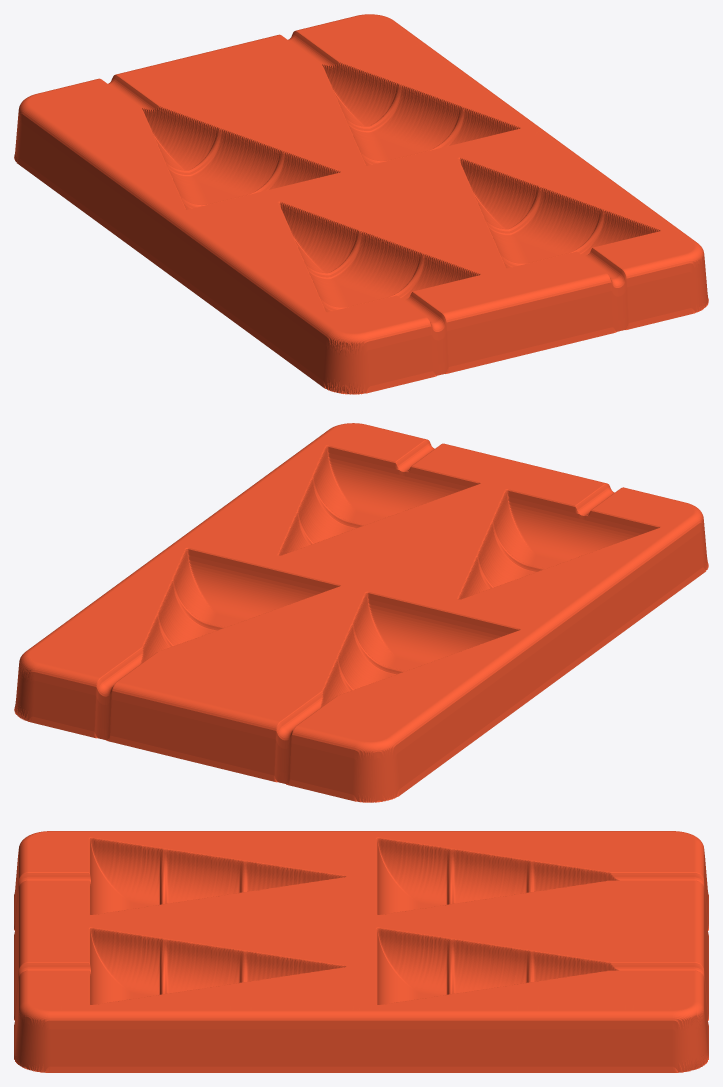
Rendered from mold.glb.
3 views of the same model, one above another, from view 1: azimuth 30°, elevation 25°; view 2: azimuth 150°, elevation 25°; view 3: azimuth 270°, elevation 25° (orthographic). The views are drawn at different scales.
Visible parts, largest first — view 1: geometry_0; view 2: geometry_0; view 3: geometry_0.
Boxes of the visible parts, box(x1,y1,x2,y2) form: geometry_0: box(14, 14, 708, 394); geometry_0: box(14, 423, 708, 802); geometry_0: box(14, 831, 708, 1072).
Size of the model in its own units: 0.1127 by 0.0155 by 0.1735.
